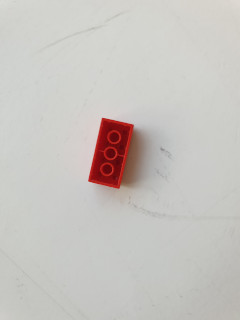2x4 red: (89, 118, 135, 190)
